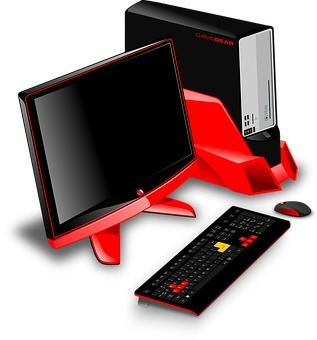tvmonitor: (13, 39, 212, 246)
